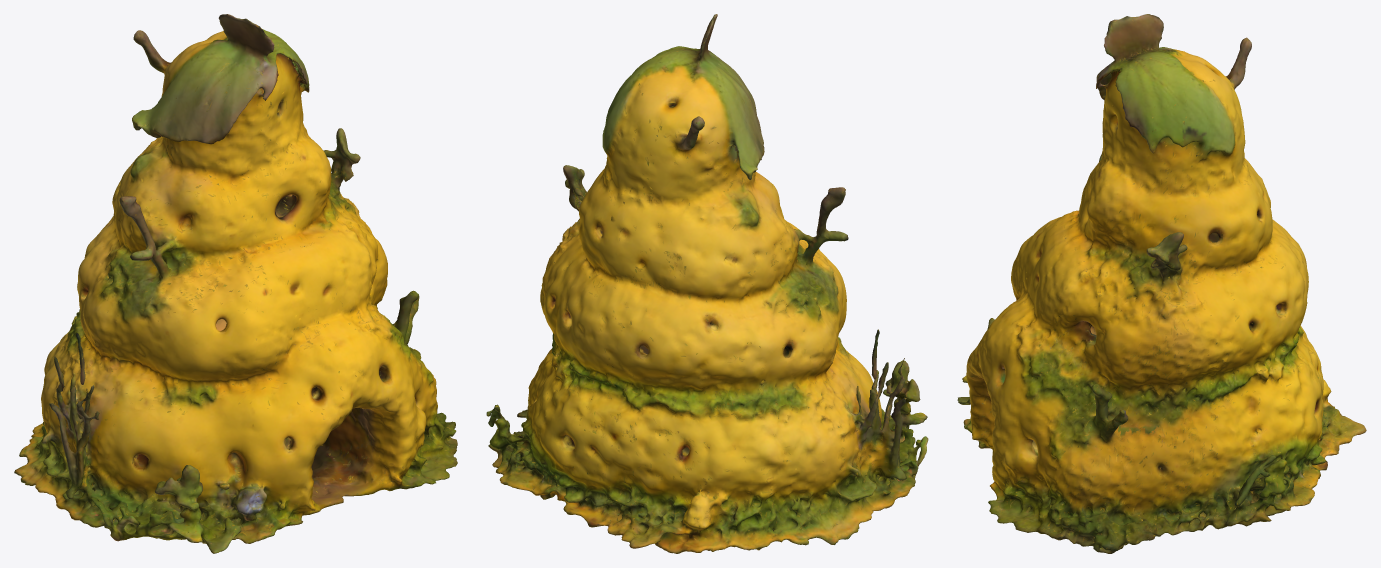
Rendered from BugHouse.fbx.
The picture shows the model from 3 angles, left to right: view 1: azimuth 30°, elevation 25°; view 2: azimuth 150°, elevation 25°; view 3: azimuth 270°, elevation 25°; orthographic projection.
Visible parts, largest first — view 1: Mesh_0; view 2: Mesh_0; view 3: Mesh_0.
Boxes of the visible parts, box(x1,y1,x2,y2) form: Mesh_0: box(14, 14, 457, 553); Mesh_0: box(486, 14, 928, 553); Mesh_0: box(957, 14, 1366, 553).
Size of the model in its own units: 82.72 by 94.62 by 76.85.
1 material, 1 textured.
